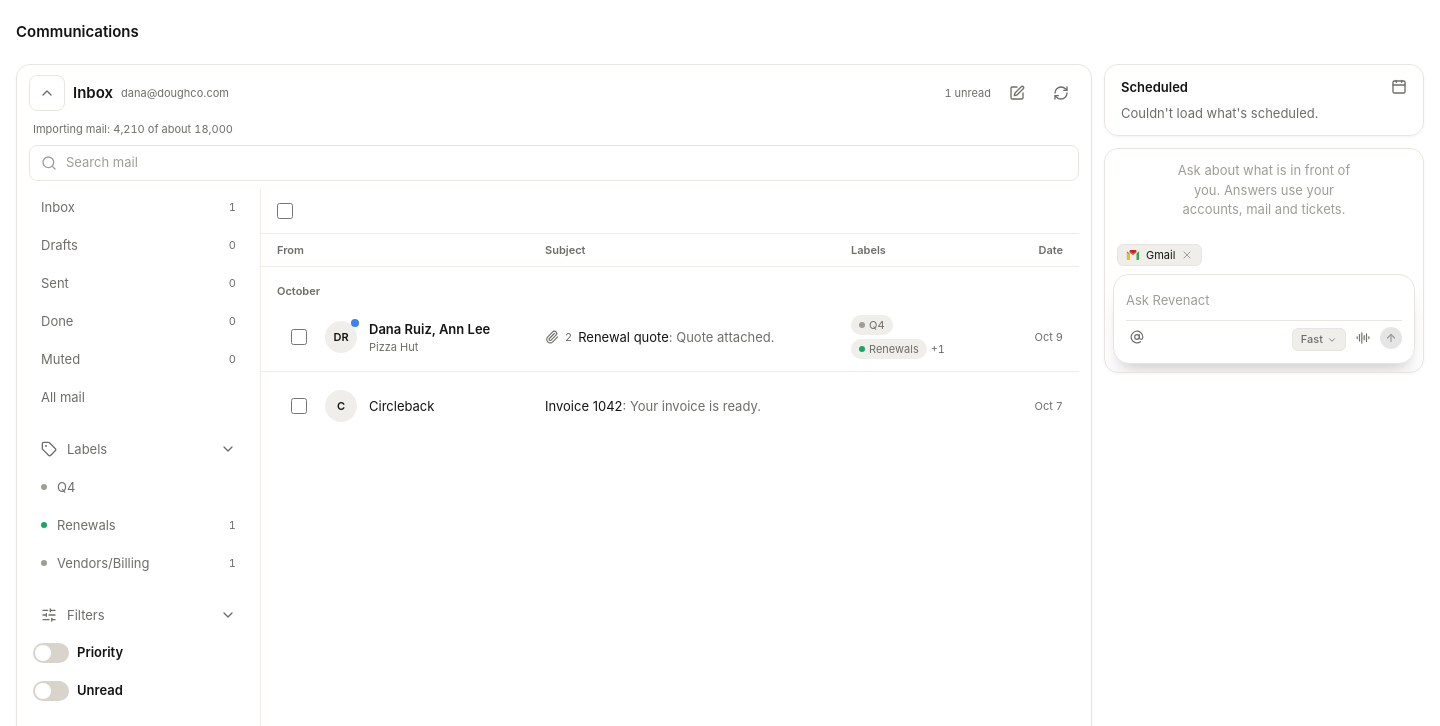
Test: Writing from the mailbox (two-way Gmail D3) › Compose and c open a new message in the pane; Back with nothing typed returns to the list and stores nothing
Check: the button "Circleback" is shown, box [369,396,533,416]
Type keys "c"
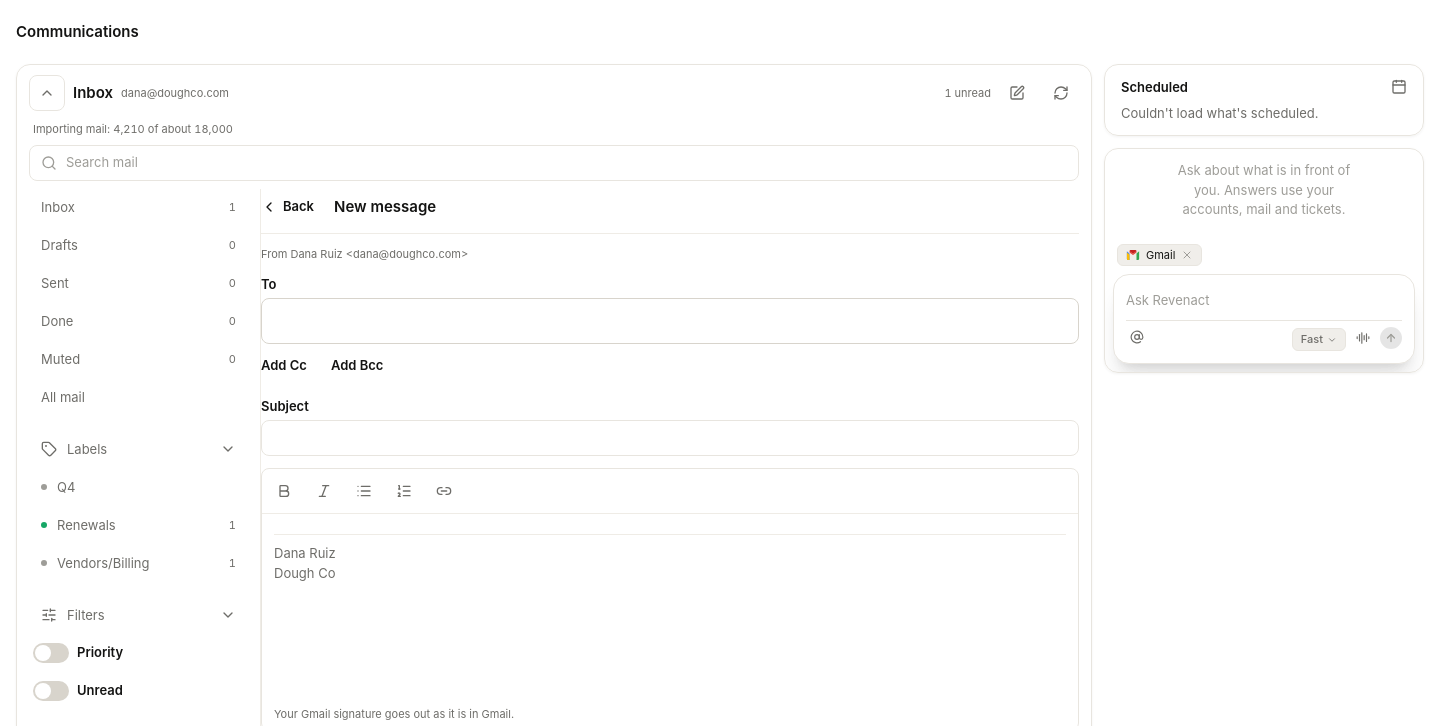
Check: the field labelled "To" is empty, box [270,303,1070,339]
Click the button "Back". click: (288,207)
box: [249,189,326,225]
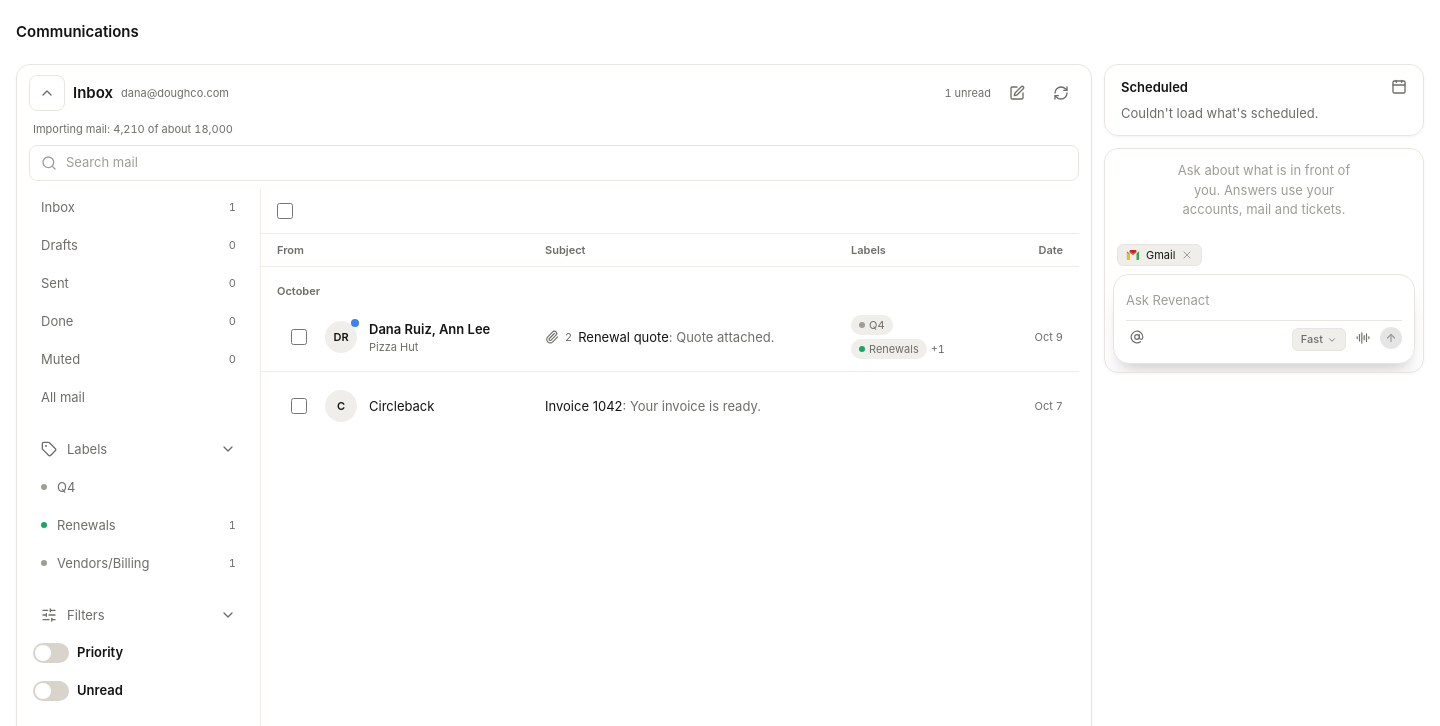
Check: the button "Circleback" is shown, box [369,396,533,416]
